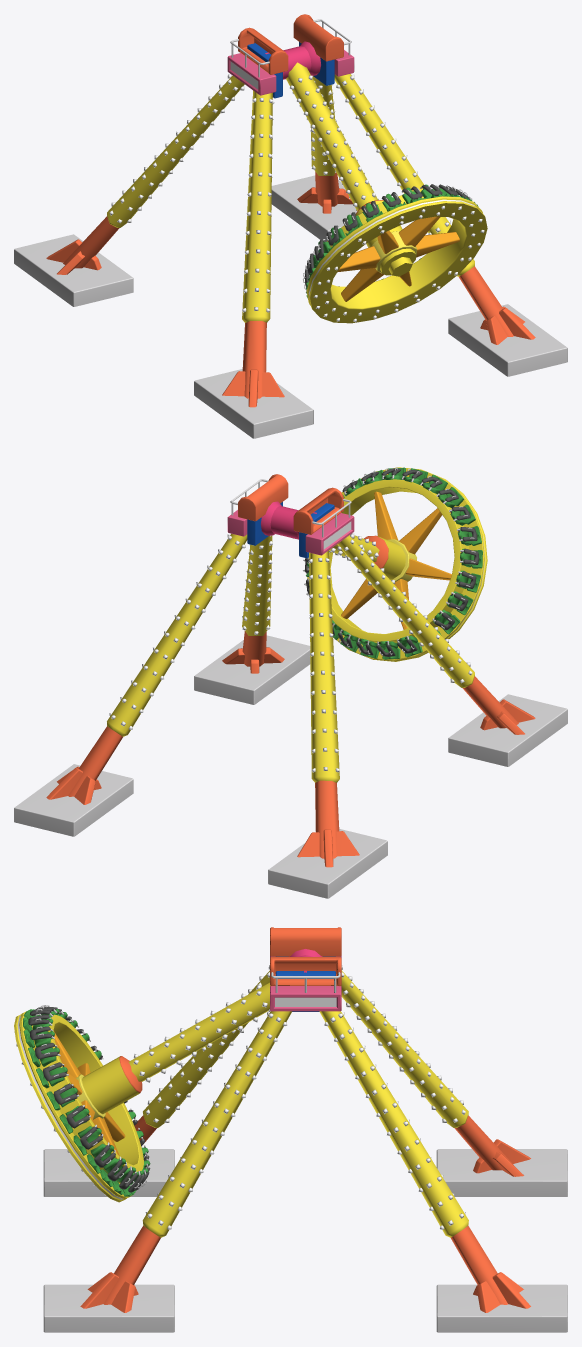
The model's file is attraction_009.gltf.
The picture shows the model from 3 angles, top to bottom: view 1: azimuth 30°, elevation 25°; view 2: azimuth 150°, elevation 25°; view 3: azimuth 270°, elevation 25°; orthographic projection. The views are drawn at different scales.
Visible parts, largest first — view 1: attraction_9_001, attraction_9_004, attraction_9_003, attraction_9_002; view 2: attraction_9_001, attraction_9_004, attraction_9_002, attraction_9_003; view 3: attraction_9_001, attraction_9_004, attraction_9_003, attraction_9_002.
Boxes of the visible parts, x1,y1,x2,y2 form: attraction_9_001: [14, 74, 567, 438]; attraction_9_004: [303, 184, 487, 323]; attraction_9_003: [265, 41, 416, 276]; attraction_9_002: [227, 14, 354, 98]; attraction_9_001: [14, 533, 567, 898]; attraction_9_004: [303, 467, 487, 661]; attraction_9_002: [227, 474, 354, 558]; attraction_9_003: [261, 501, 405, 579]; attraction_9_001: [43, 965, 567, 1332]; attraction_9_004: [14, 1005, 150, 1202]; attraction_9_003: [82, 949, 322, 1114]; attraction_9_002: [270, 927, 341, 1011].
Size of the model in its own units: 23.95 by 20.32 by 33.43.
2 materials, 1 textured.
